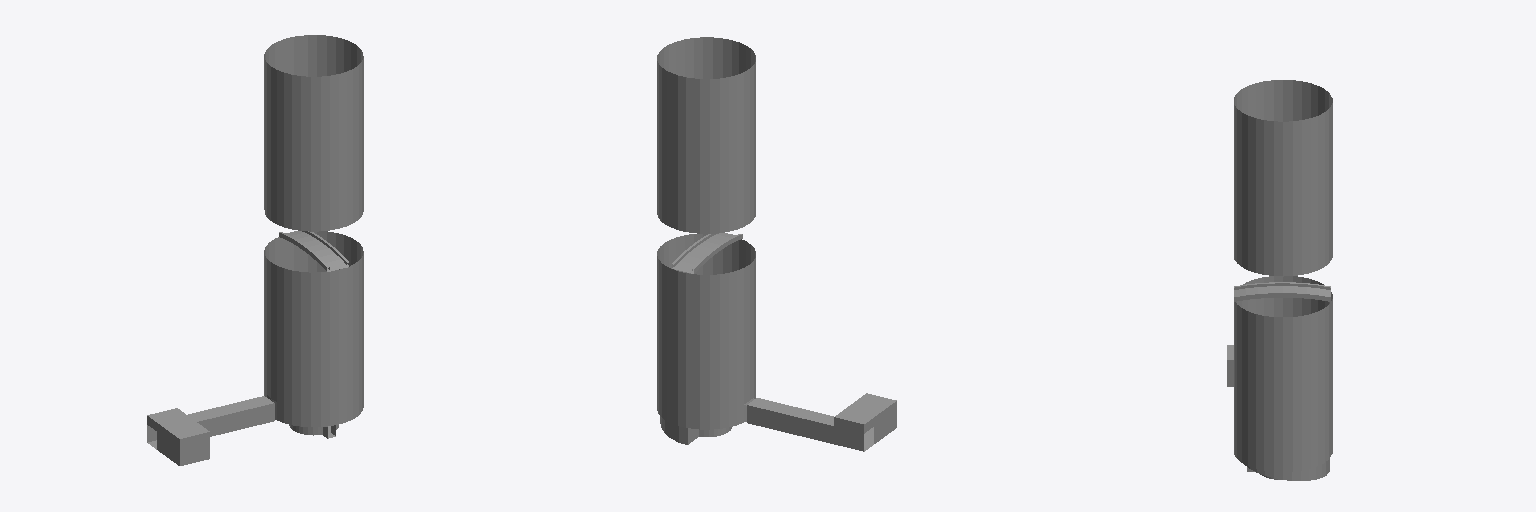
Rendered from circular.obj.
The picture shows the model from 3 angles: view 1: azimuth 30°, elevation 25°; view 2: azimuth 150°, elevation 25°; view 3: azimuth 270°, elevation 25°; orthographic projection.
Visible parts, largest first — view 1: Circle; view 2: Circle; view 3: Circle.
Part boxes in pixels (x1,y1,x2,y2): Circle: (147,35,363,465); Circle: (657,37,896,451); Circle: (1227,80,1332,480).
Bounding box in the file's own units: 47.21 × 81 × 21.